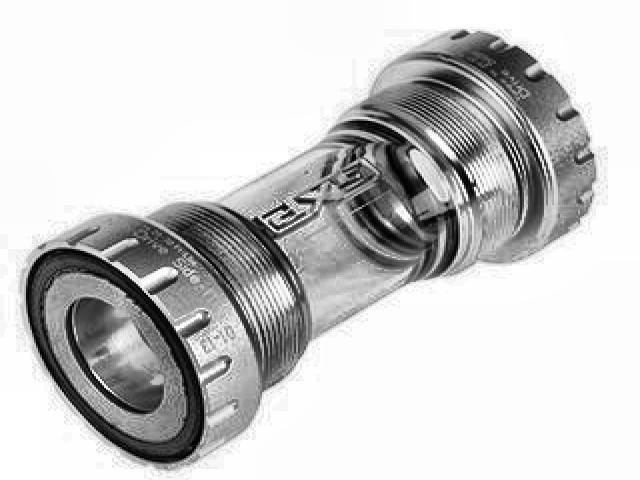bottom_bracket: (19, 24, 598, 471)
